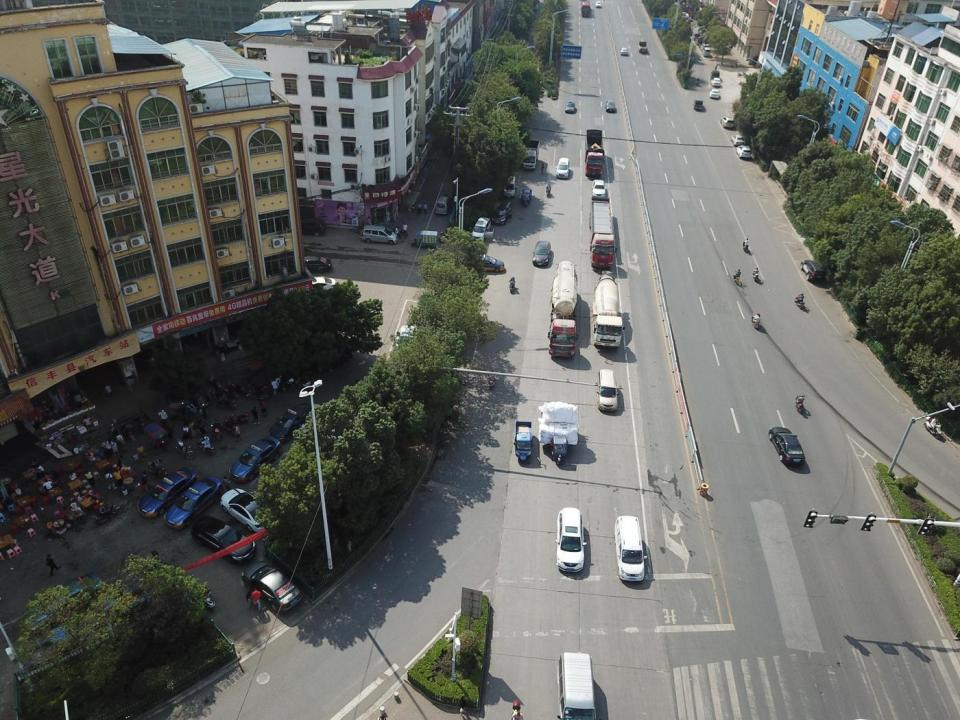bus: (559, 653, 596, 720), (581, 0, 590, 19)
car: (135, 468, 199, 518), (164, 476, 221, 530), (192, 516, 256, 562), (246, 562, 302, 612), (230, 437, 281, 483), (220, 488, 273, 532), (614, 516, 646, 582), (269, 402, 317, 443), (558, 507, 586, 574), (769, 425, 805, 470), (394, 326, 417, 360), (300, 276, 336, 295), (468, 254, 504, 272), (293, 256, 332, 272), (294, 218, 326, 236), (801, 260, 825, 284), (492, 201, 512, 225), (533, 241, 550, 265), (592, 180, 606, 198), (505, 175, 515, 197), (738, 145, 751, 159), (721, 117, 734, 128), (731, 135, 743, 145), (606, 100, 614, 114), (566, 100, 574, 113), (710, 90, 721, 99), (711, 78, 722, 86), (710, 70, 719, 78), (620, 48, 628, 55), (596, 2, 601, 8)
truck: (551, 260, 579, 357), (593, 272, 623, 349), (591, 201, 617, 271), (586, 133, 604, 178), (502, 139, 540, 158), (638, 40, 648, 53)
van: (595, 369, 620, 411), (360, 226, 398, 244), (471, 216, 494, 244), (556, 157, 572, 178), (435, 194, 450, 214), (523, 152, 537, 170), (702, 47, 710, 57), (700, 43, 709, 50), (693, 33, 700, 40), (697, 37, 703, 45)
